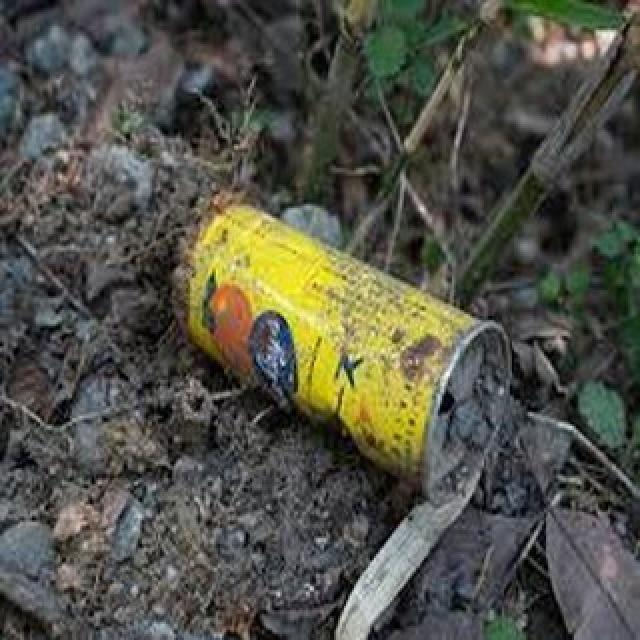can: (202, 198, 509, 490)
